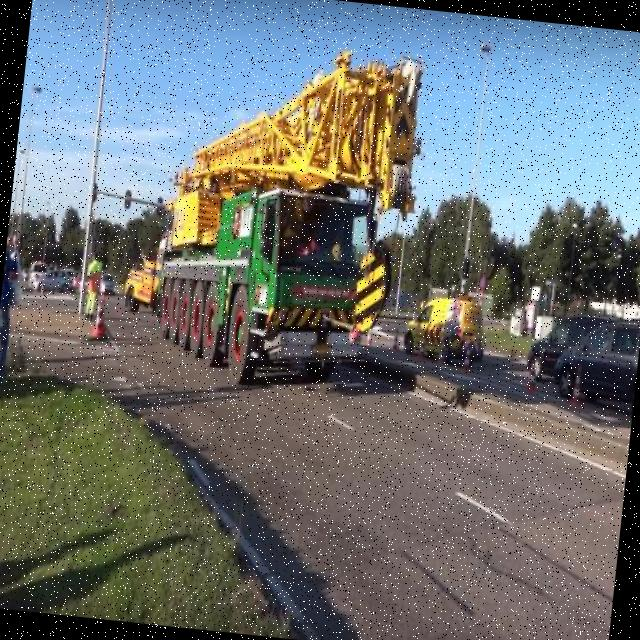Mobile Crane: (153, 36, 424, 398)
